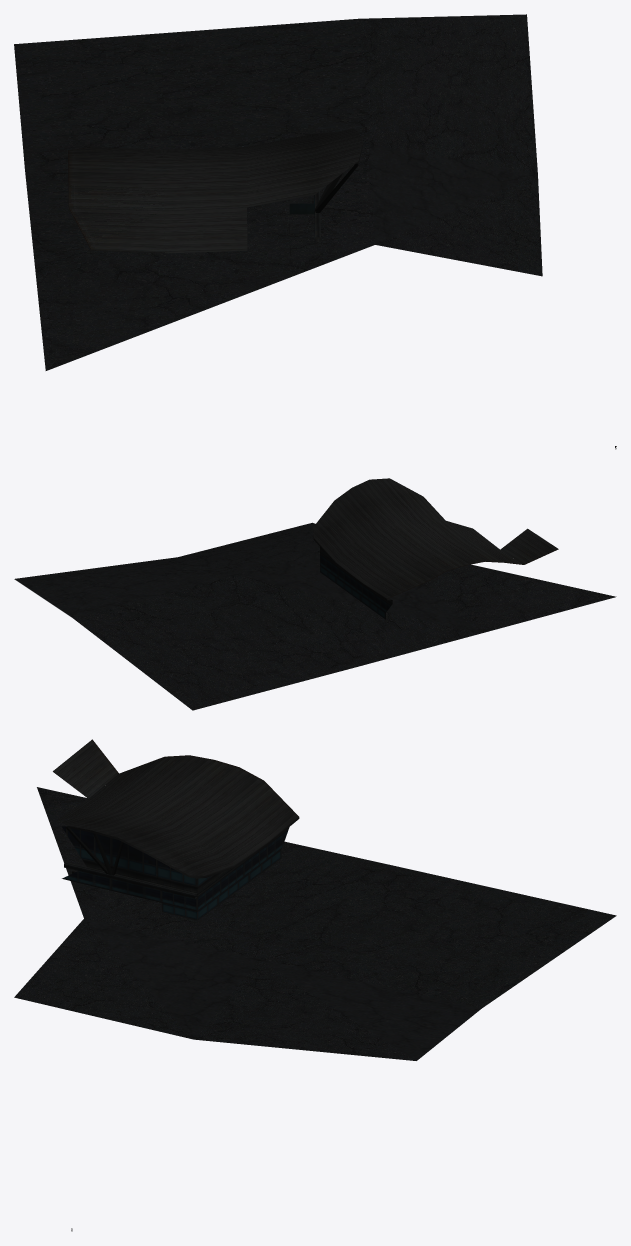
The model's file is cell_-1_-1.gltf.
3 views of the same model, one above another, from view 1: azimuth 30°, elevation 25°; view 2: azimuth 150°, elevation 25°; view 3: azimuth 270°, elevation 25° (orthographic). The views are drawn at different scales.
Parts seen in each view (by area): view 1: cell_-1_-1; view 2: cell_-1_-1; view 3: cell_-1_-1.
Boxes of the visible parts, x1,y1,x2,y2 form: cell_-1_-1: (14, 14, 616, 449); cell_-1_-1: (14, 478, 616, 710); cell_-1_-1: (14, 739, 616, 1231).
Bounding box in the file's own units: 328 × 158 × 287.
6 materials, 6 textured.
